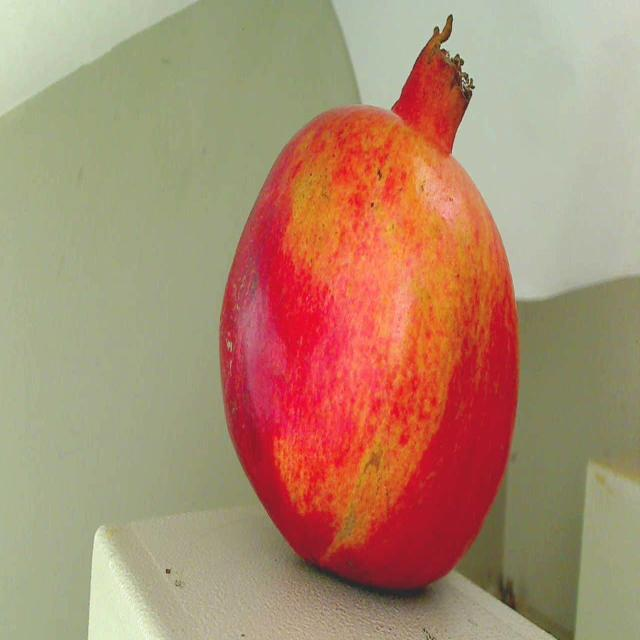pomegranate: (205, 27, 526, 604)
